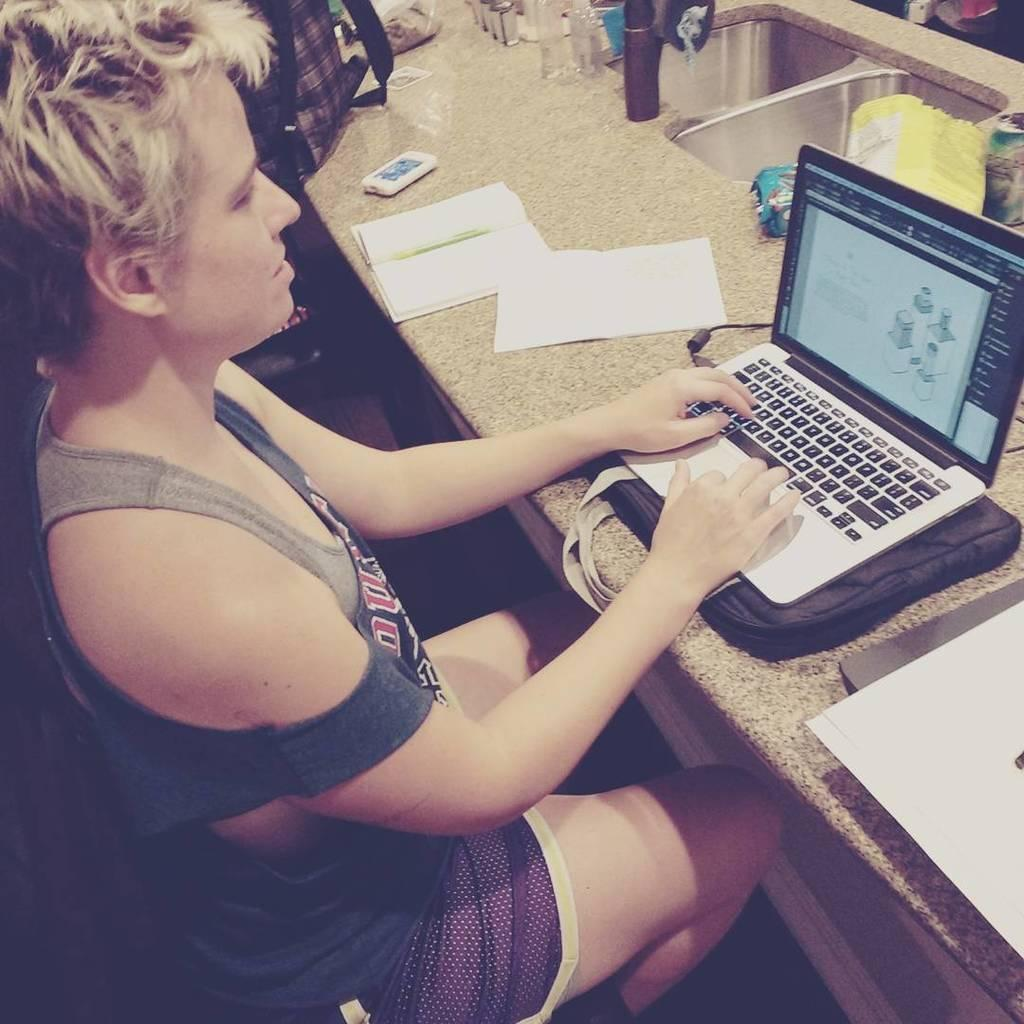Computer-keyboard: (685, 352, 954, 539)
